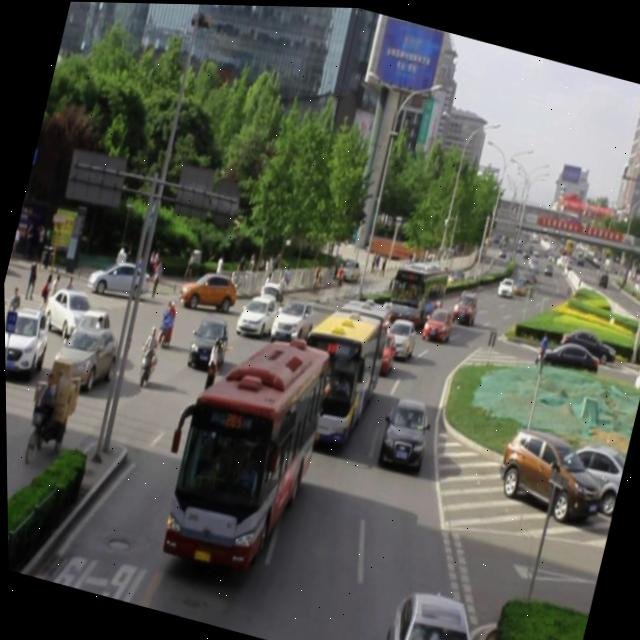car: (375, 576, 495, 640), (218, 354, 283, 432), (375, 389, 433, 468), (175, 260, 240, 317), (326, 296, 384, 355), (185, 307, 233, 369), (269, 288, 317, 344), (235, 283, 279, 337), (358, 321, 399, 374), (379, 311, 420, 358), (417, 298, 454, 341), (447, 283, 481, 324)
van: (159, 317, 329, 576), (283, 286, 390, 451), (383, 250, 448, 329)
